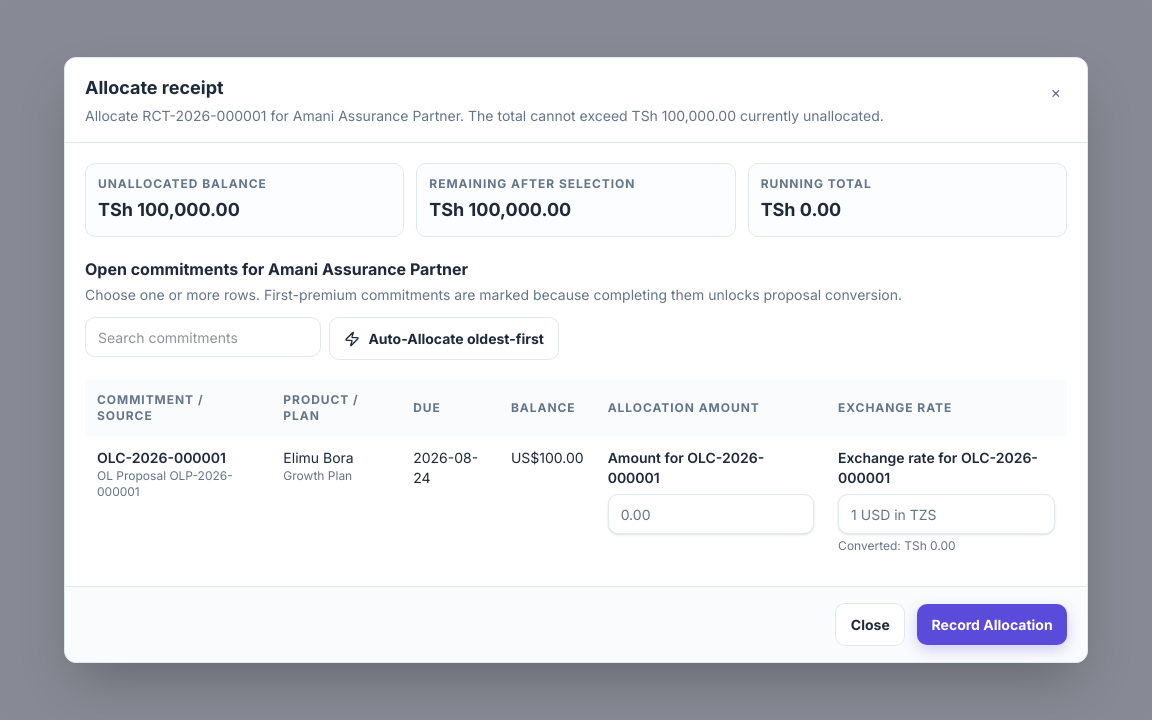
ReceiptAllocationModal Prompt 5 › previews cross-currency conversion and coaches when the rate is missing
Later steps or results of the test are not shown.
Step 1. Type "10" into the number field labelled "Amount for OLC-2026-000001" → (711, 514), box [608,494,814,534]
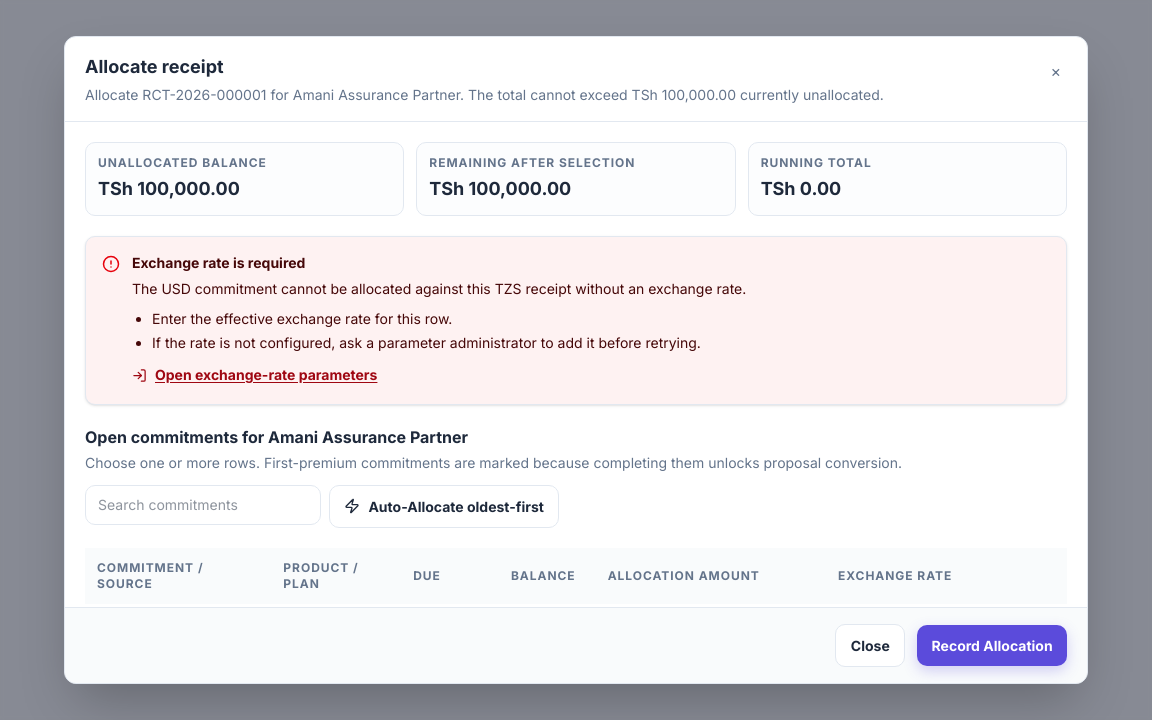
Check: the text "Exchange rate is required" is shown, box [132,254,305,271]
